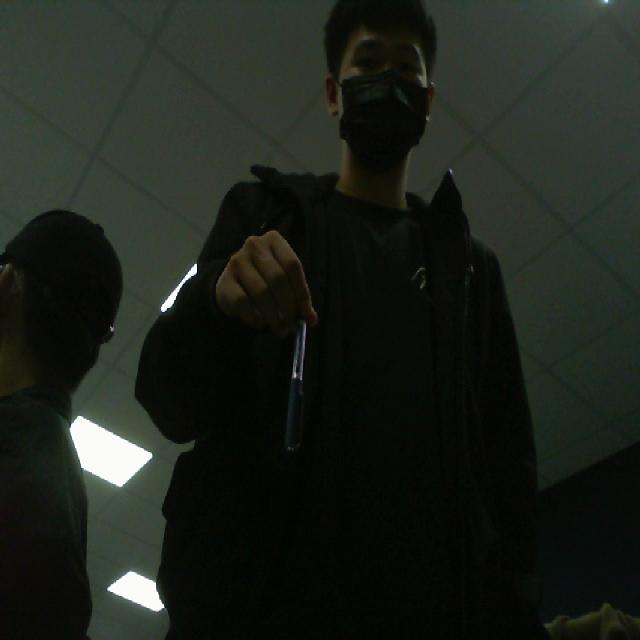Pen: (278, 286, 317, 488)
